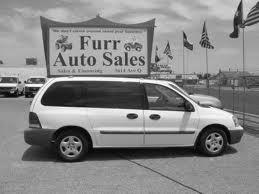car: (26, 78, 245, 161)
